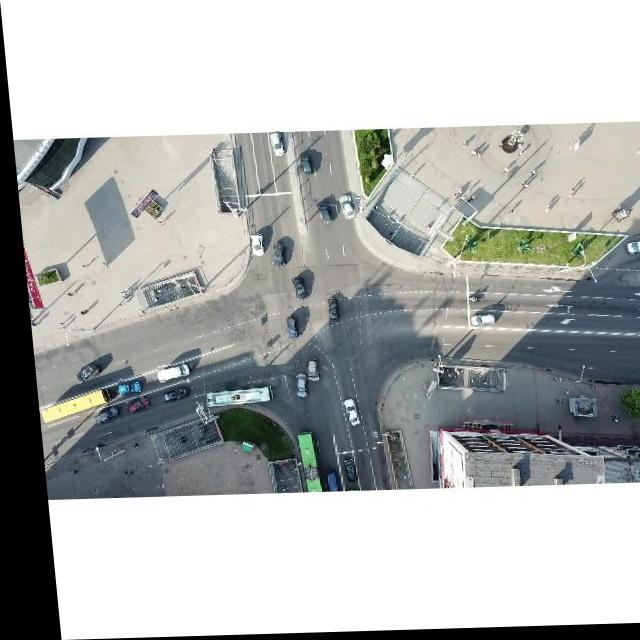vehicle: (149, 365, 184, 385), (66, 365, 93, 383), (109, 380, 135, 398), (85, 407, 112, 424), (336, 401, 352, 429), (154, 388, 183, 403), (335, 196, 351, 223), (333, 460, 349, 486), (266, 245, 282, 269), (286, 376, 302, 400), (287, 278, 302, 303), (298, 359, 313, 384), (313, 203, 328, 227), (118, 398, 142, 413), (278, 319, 293, 341), (268, 133, 281, 158), (464, 316, 489, 329), (621, 241, 640, 258), (245, 235, 259, 258), (321, 300, 335, 322), (297, 154, 309, 176)
